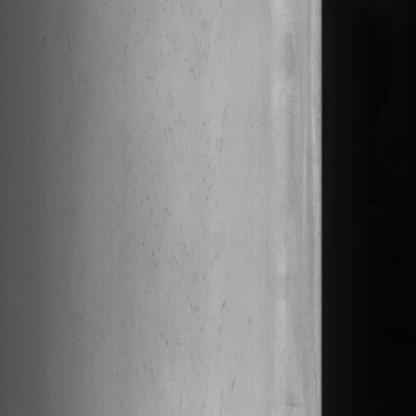silk_spot: (124, 12, 242, 416)
